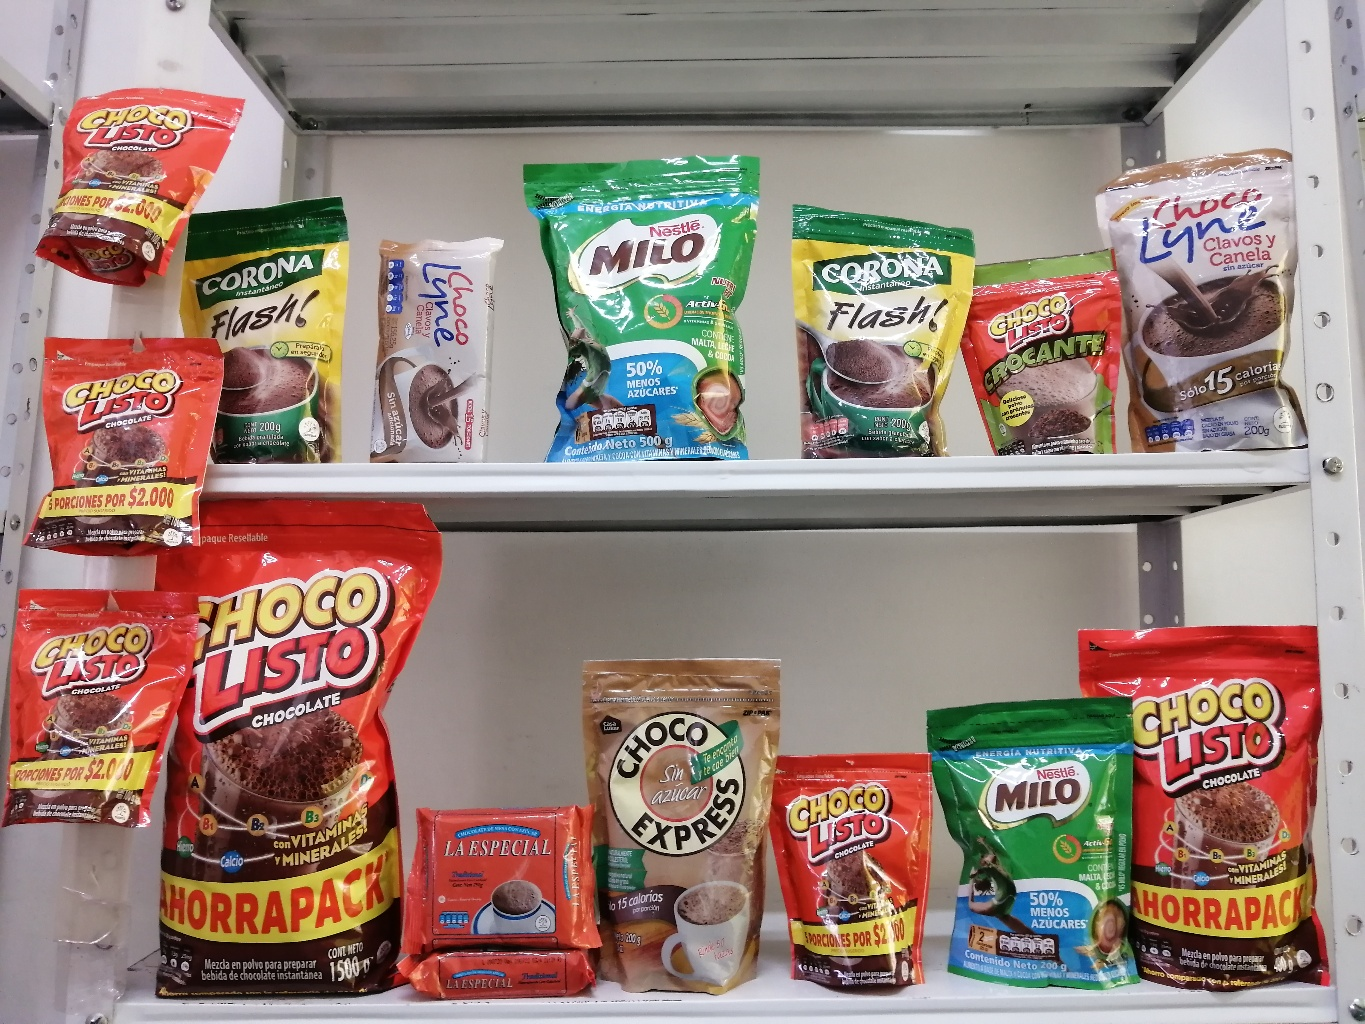COL0170102DYP10000: (941, 236, 1138, 465)
COL0170103DYP1,500: (138, 490, 443, 1011)
COL0170103DYP10000: (753, 743, 943, 996)
COL0170103DYP40000: (1069, 609, 1347, 999)
COL0170205DYP20000: (916, 689, 1158, 997)
COL0170205DYP50000: (511, 136, 779, 470)
